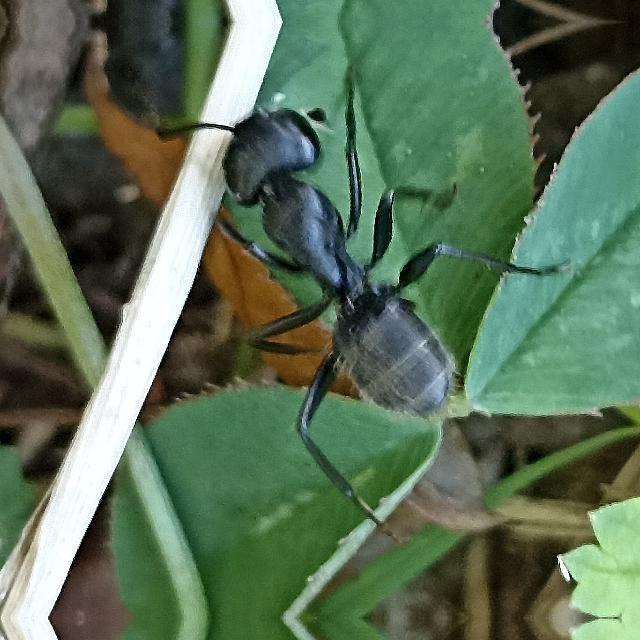Camponotus: (132, 56, 532, 450)
